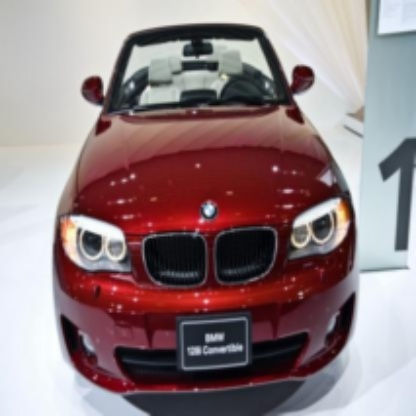Vehicle: (52, 24, 362, 397)
